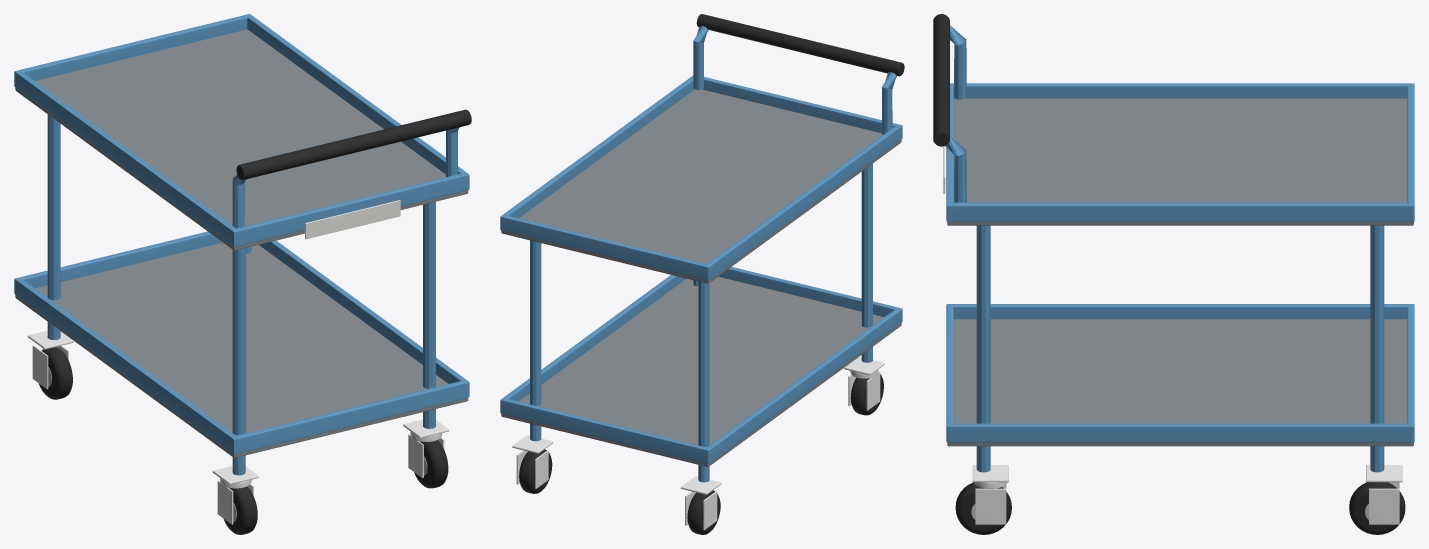
File: trolley_parts.glb
3 views of the same model, side by side, from view 1: azimuth 30°, elevation 25°; view 2: azimuth 150°, elevation 25°; view 3: azimuth 270°, elevation 25° (orthographic). The views are drawn at different scales.
Visible parts, largest first — view 1: SM_trolley_parts; view 2: SM_trolley_parts; view 3: SM_trolley_parts.
Boxes of the visible parts, x1,y1,x2,y2 form: SM_trolley_parts: (14, 14, 471, 534); SM_trolley_parts: (500, 14, 904, 534); SM_trolley_parts: (933, 14, 1414, 534).
Bounding box in the file's own units: 0.62 × 0.968 × 1.03.
